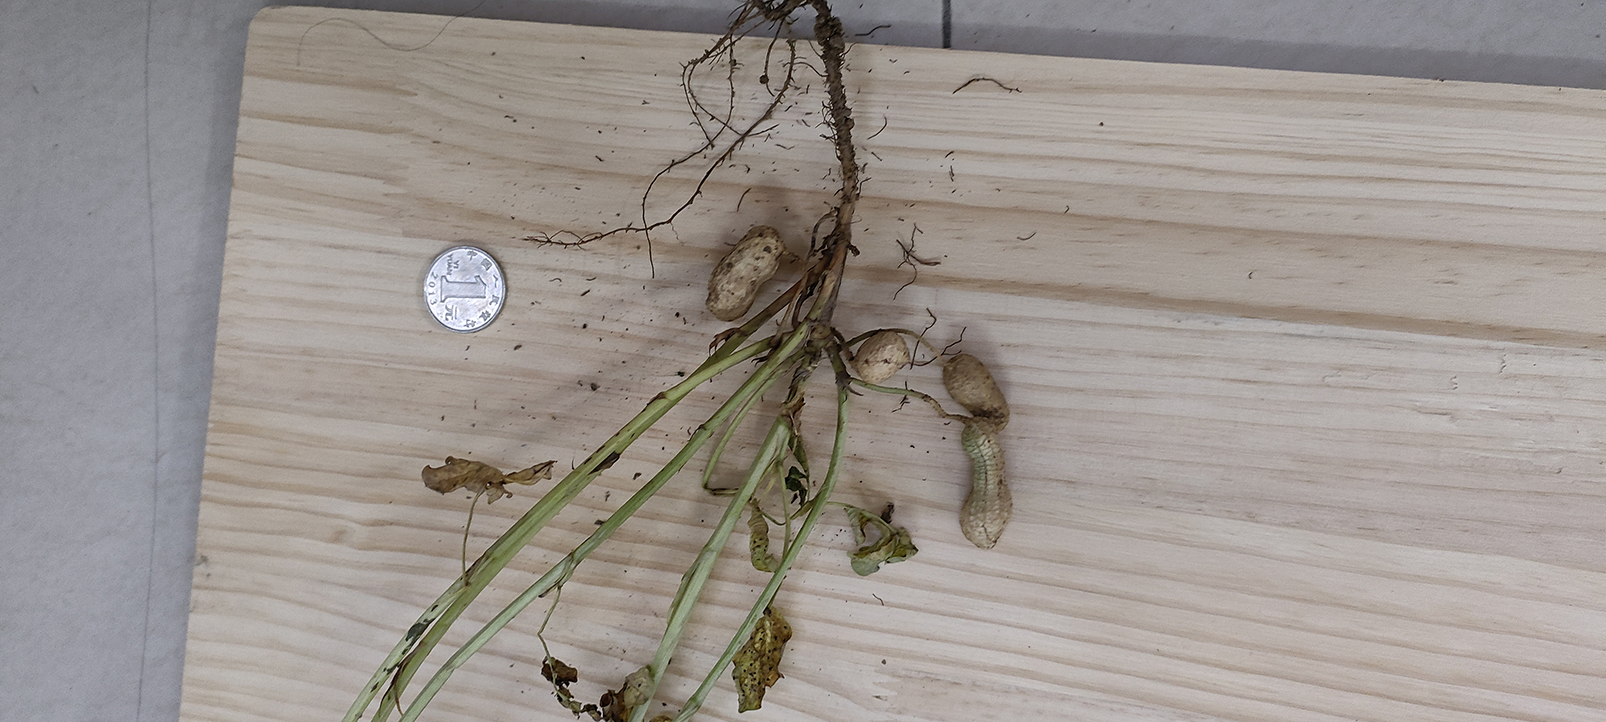h: (705, 226, 781, 322), (962, 420, 1014, 548), (945, 351, 1011, 424), (855, 330, 908, 386)
